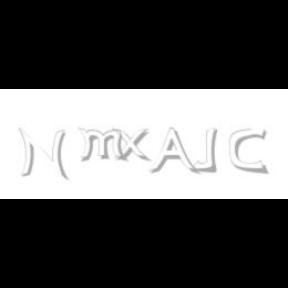A: (149, 128, 197, 176)
C: (230, 128, 266, 174)
J: (192, 128, 218, 172)
N: (18, 128, 66, 180)
m: (77, 128, 129, 162)
x: (112, 128, 154, 162)
